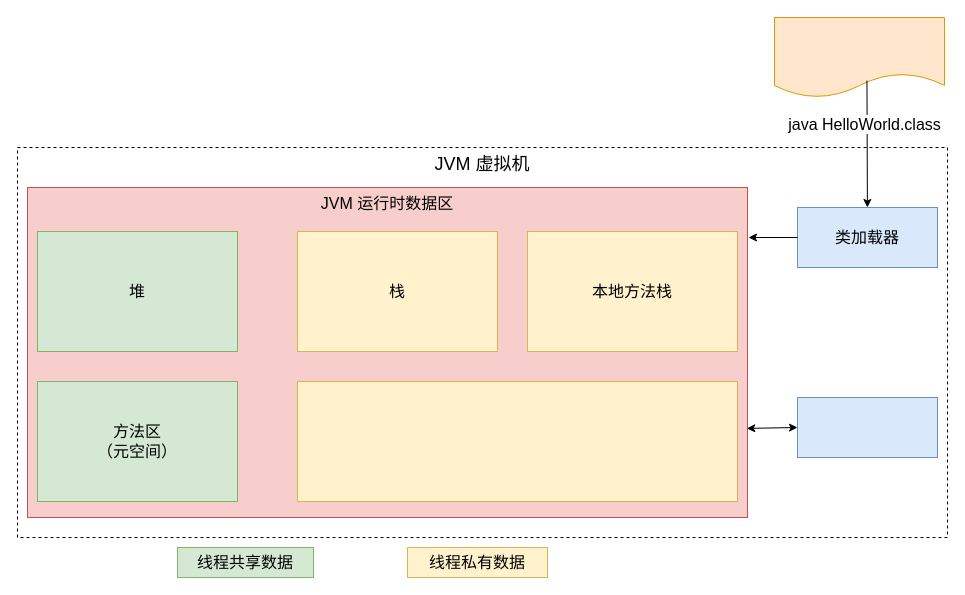
The diagram is 965 pixels wide and 595 high, and some of its shapes have lost their labels. Each missing label, with the centre of its shape:
HelloWorld.class: point 859,57
执行引擎: point 867,427
程序计数器: point 517,441
